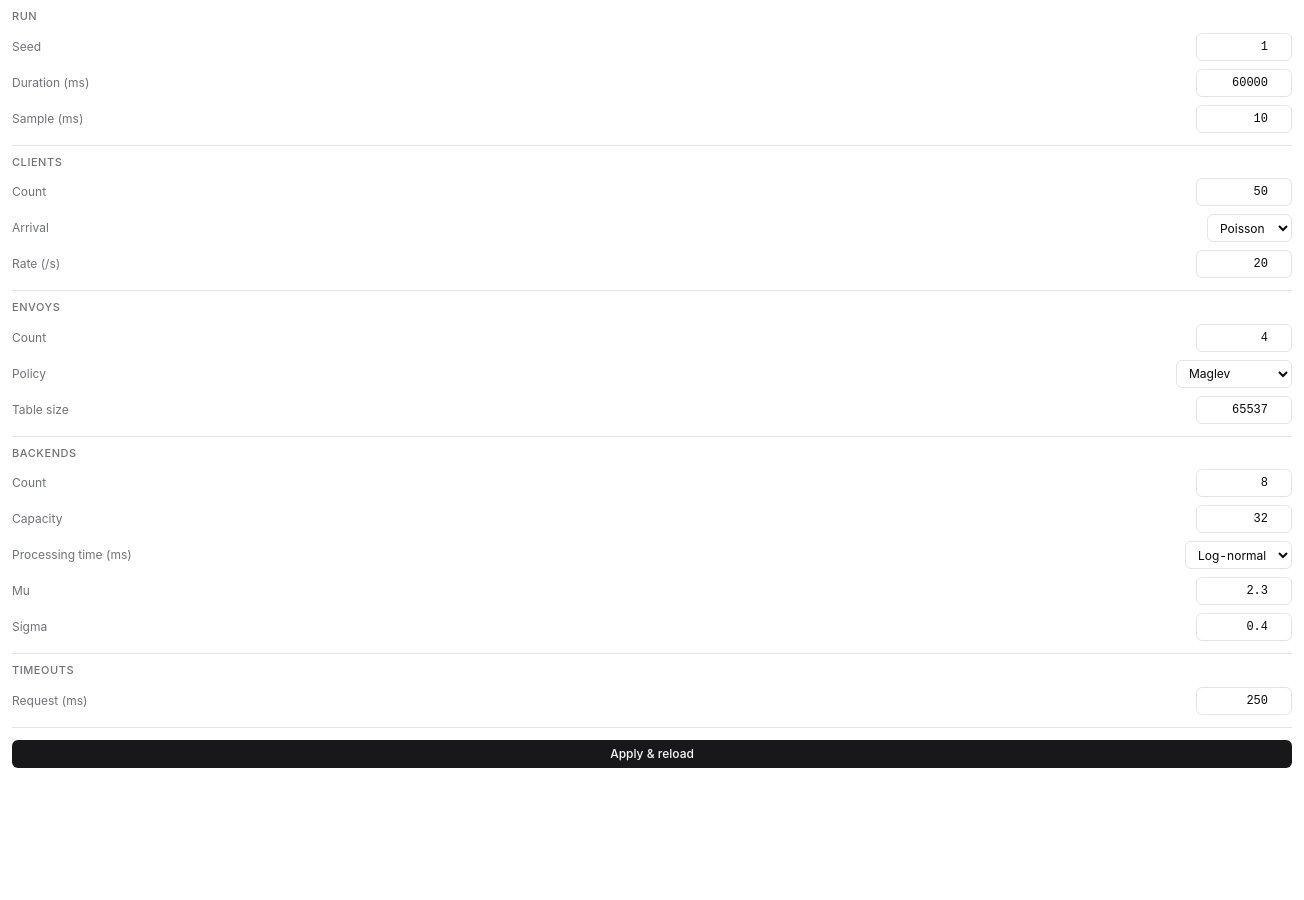
Test: ConfigEditor › switches policy and surfaces the right policy-specific control
Replace the text in the number field labelled "Table size" with "131". click: (1244, 410)
box: [1196,396,1292,424]
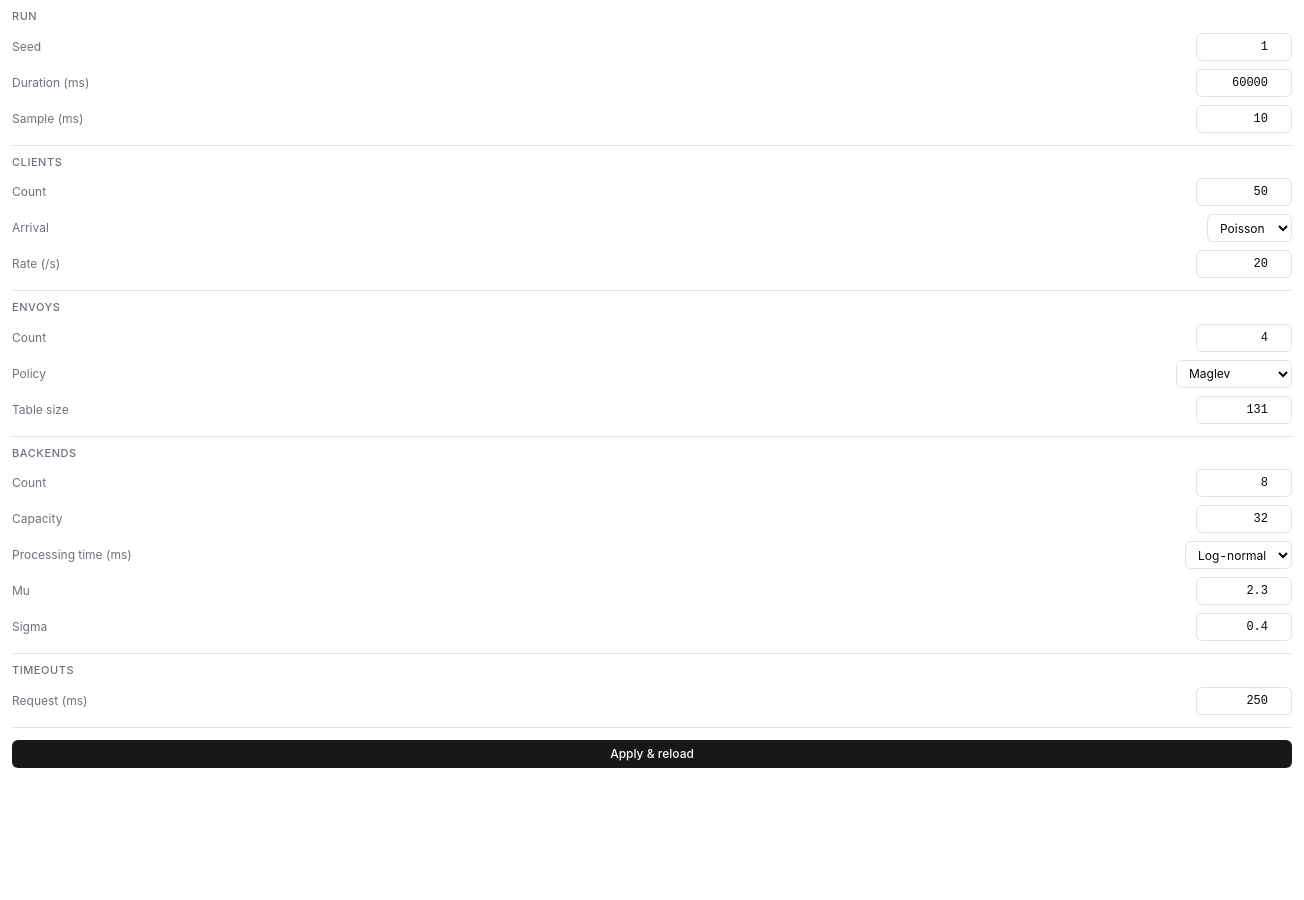
Select "Ring hash" in the dropdown named "LB policy". click: (1234, 374)
box: [1176,360,1292,388]
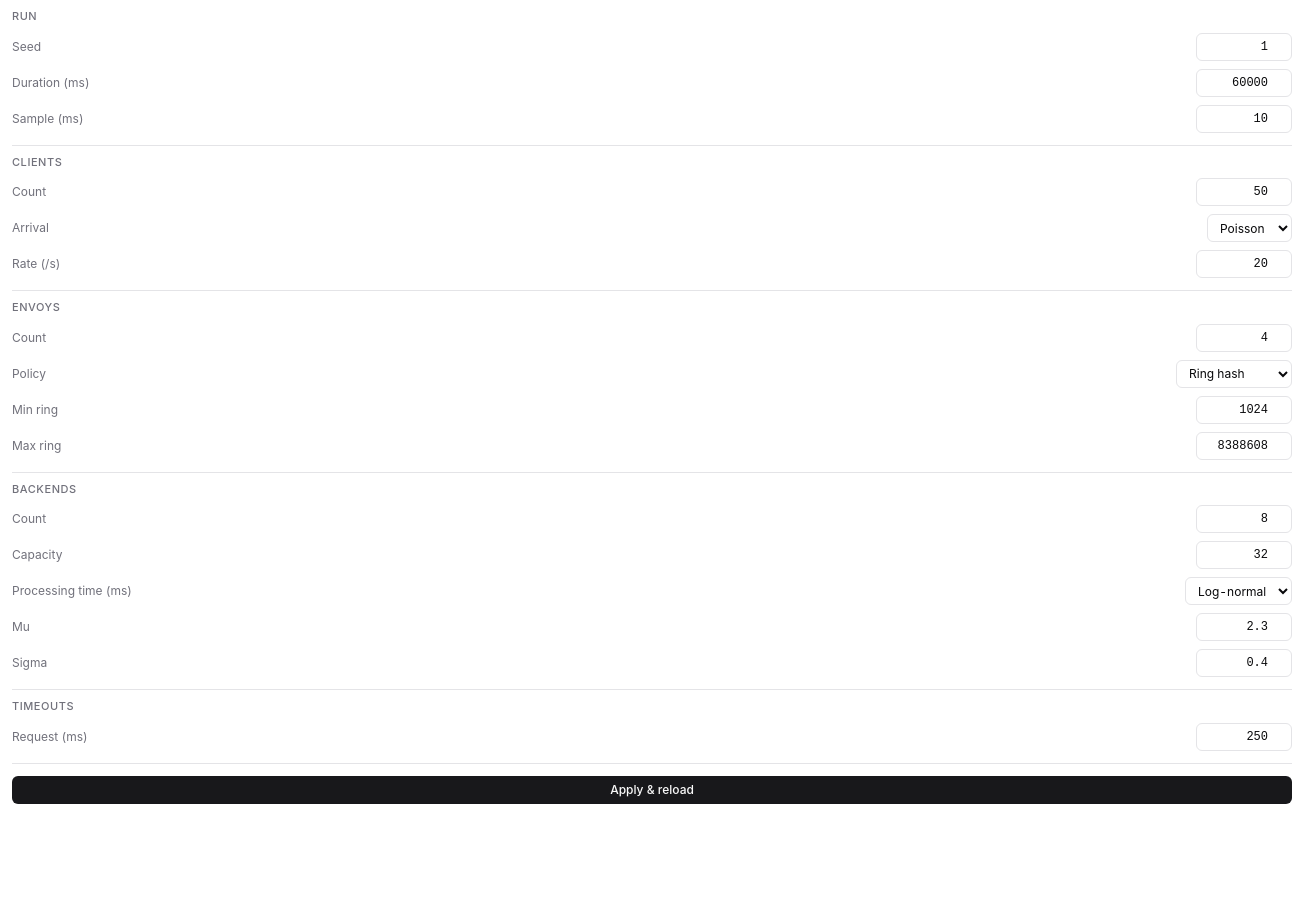
Replace the text in the number field labelled "Min ring" with "2048". click: (1244, 410)
box: [1196,396,1292,424]
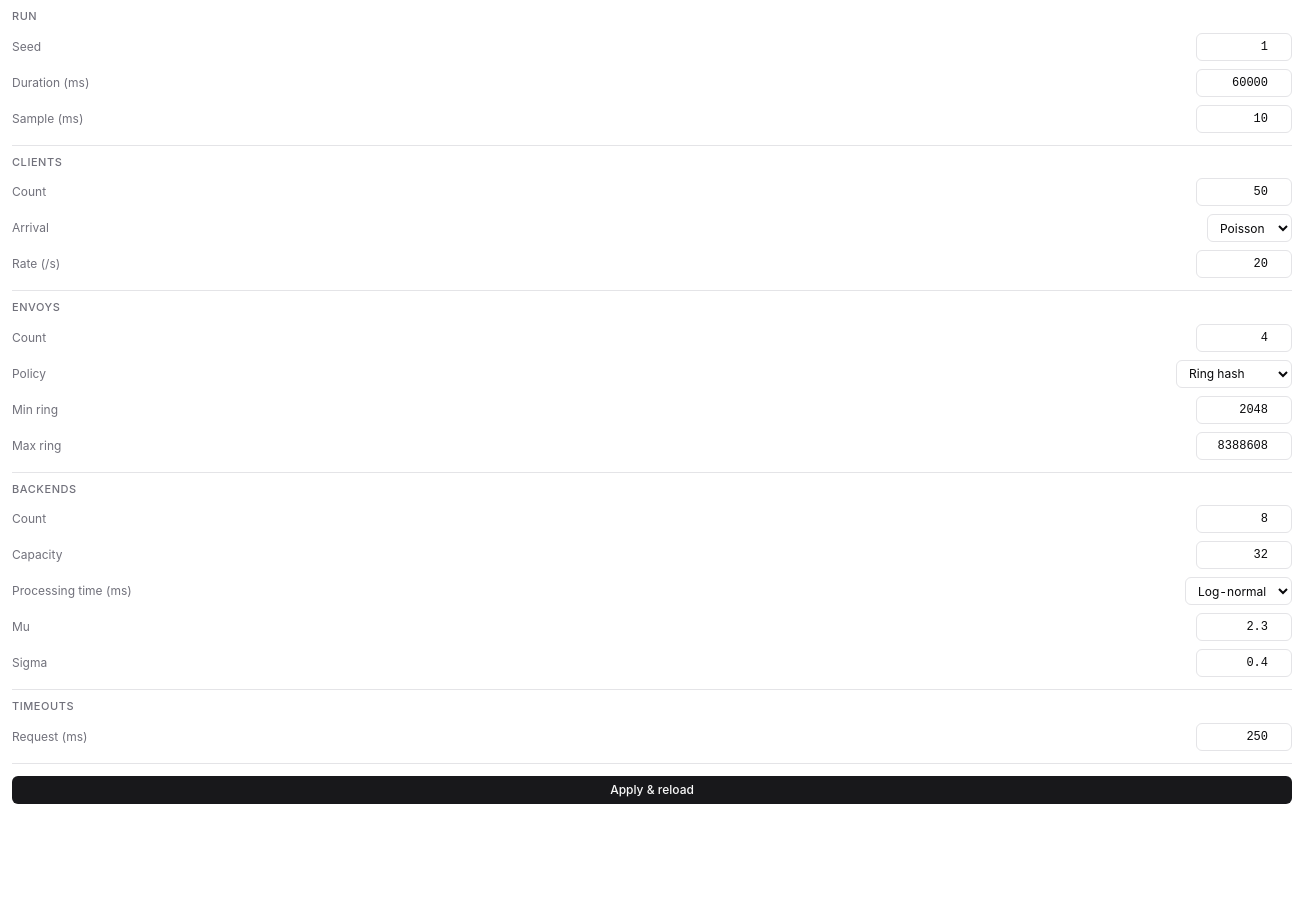
Select "Least request" in the dropdown named "LB policy". click: (1234, 374)
box: [1176,360,1292,388]
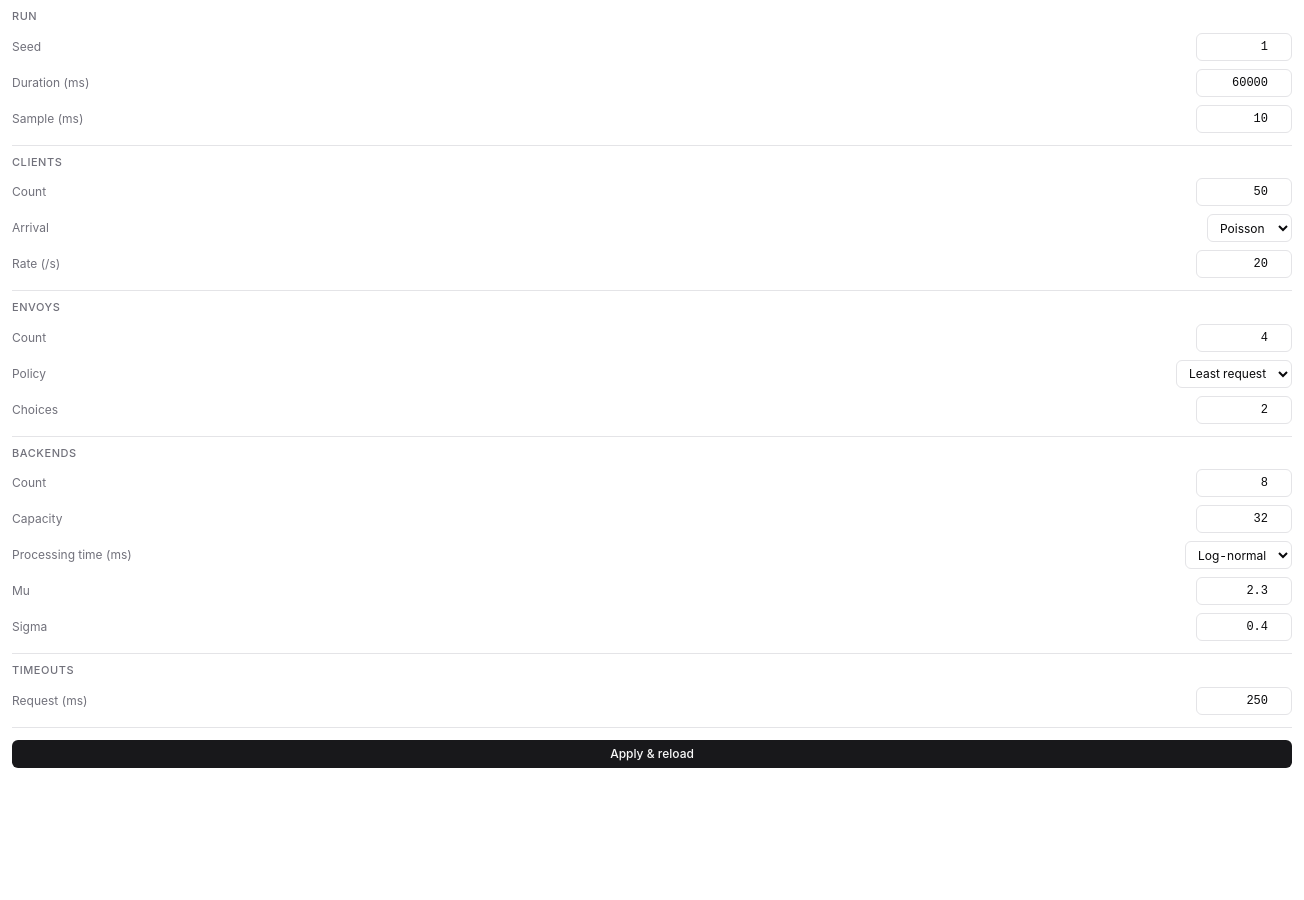
Replace the text in the number field labelled "Choices" with "3". click: (1244, 410)
box: [1196,396,1292,424]
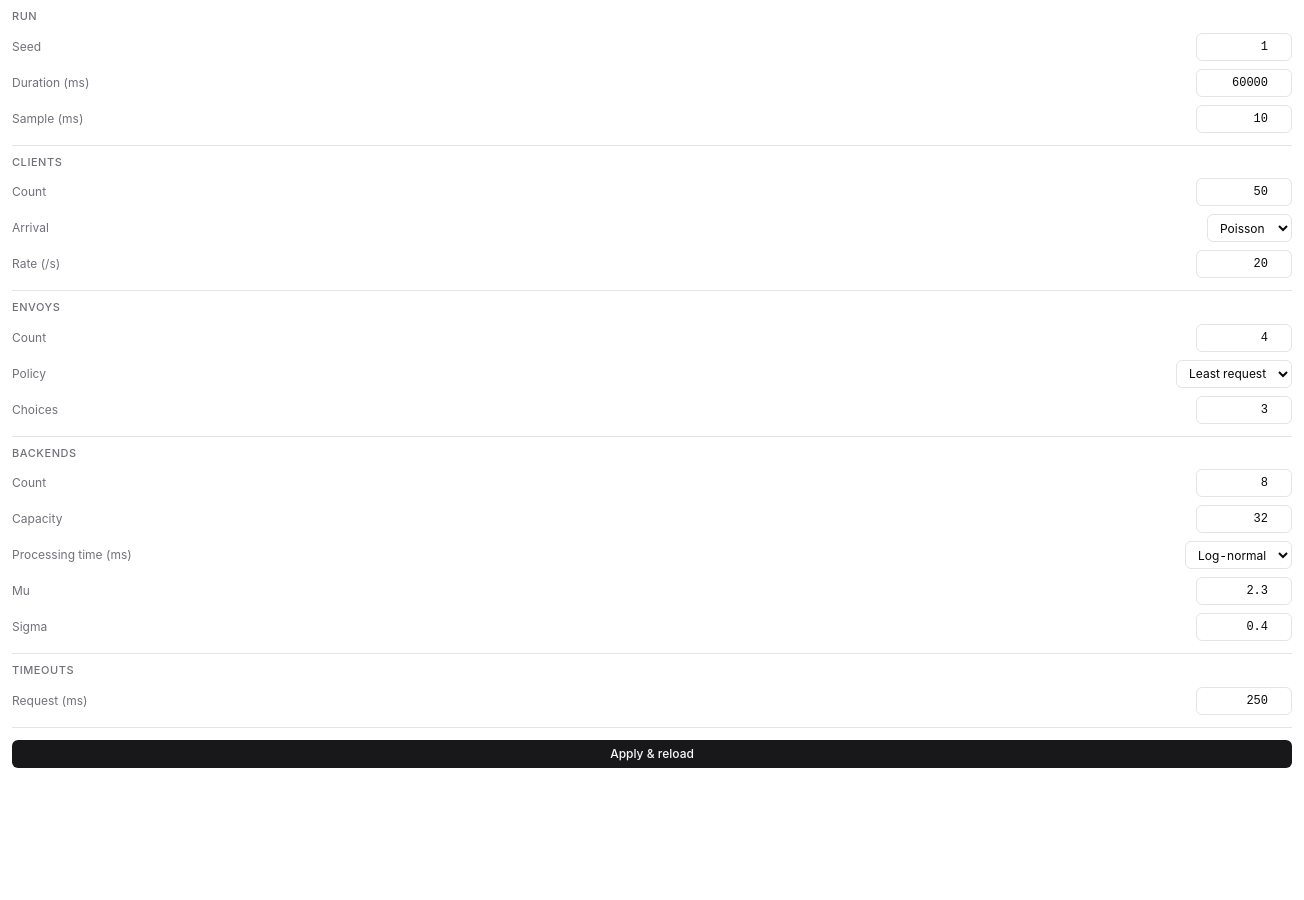
Select "Random" in the dropdown named "LB policy". click: (1234, 374)
box: [1176,360,1292,388]
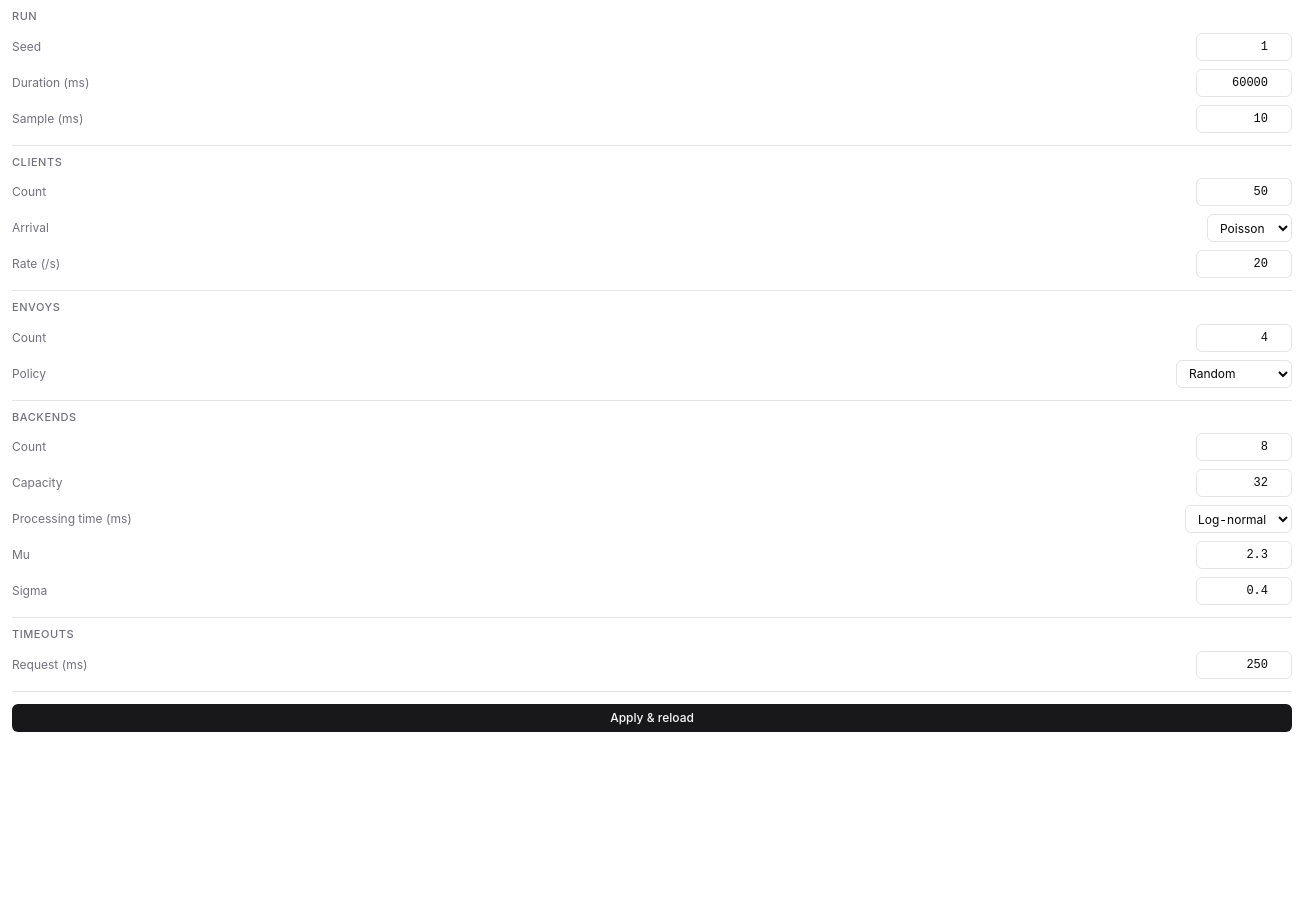
Expected: the label labelled "Choices" is gone
